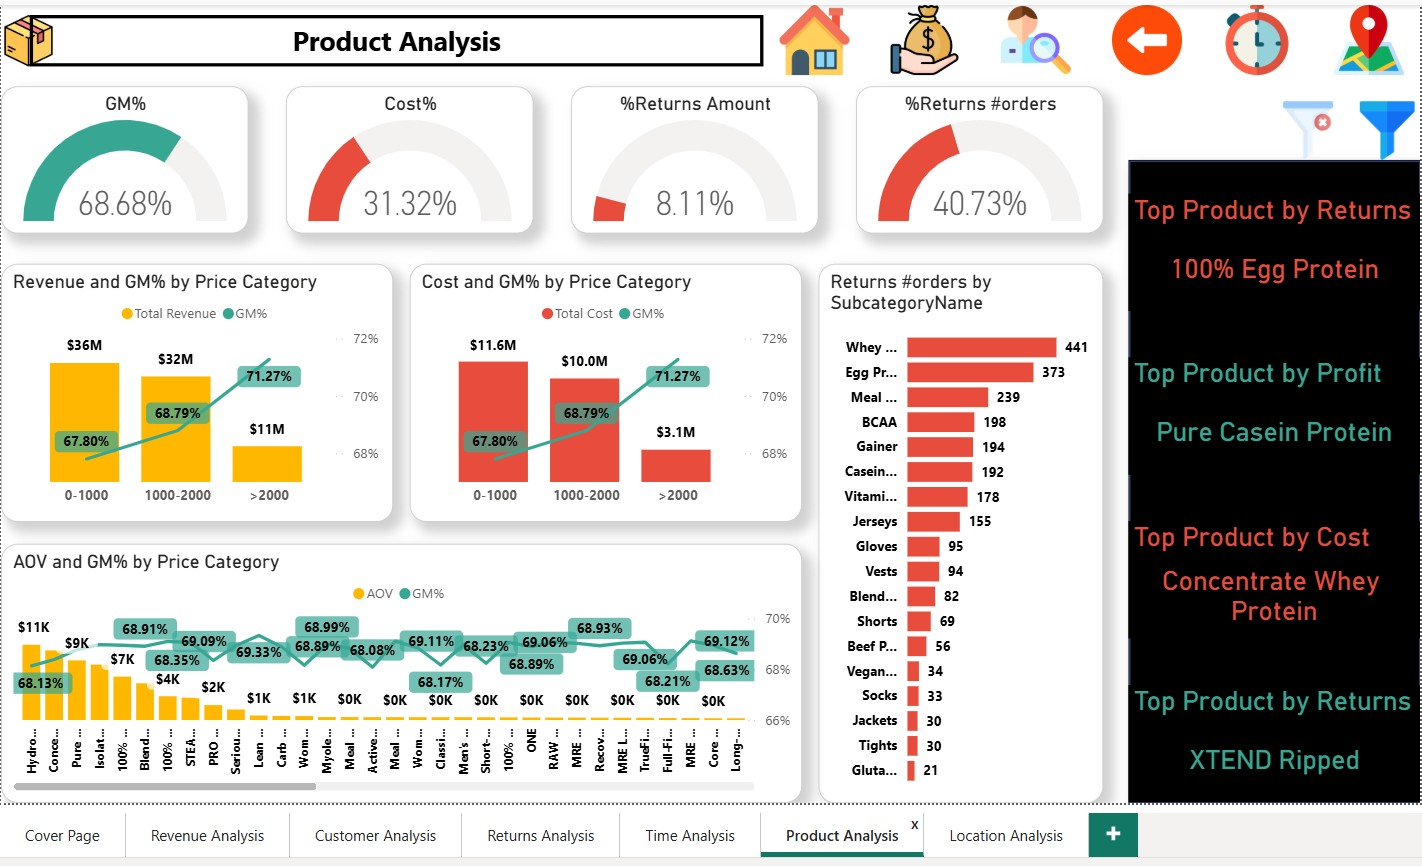

The dashboard page shown, as its layout file describes it:
{"tool":"powerbi","page":{"name":"Product Analysis","canvas":[1280,720],"ordinal":5},"visuals":[{"type":"gauge","fields":{"Y":["Calculations.GM%"]},"box":[0,73.3,223.2,133],"z":0},{"type":"gauge","fields":{"Y":["Calculations.Cost%"]},"box":[257,73.3,223.2,133],"z":1000},{"type":"gauge","fields":{"Y":["Retuens Measures.%Returns #orders"]},"box":[770.9,73.3,223.2,133],"z":2000},{"type":"gauge","fields":{"Y":["Retuens Measures.%Returns Amount"]},"box":[514,73.3,223.2,133],"z":3000},{"type":"lineStackedColumnComboChart","title":"Revenue and GM% by Price Category","fields":{"Y":["Calculations.Total Revenue"],"Category":["SalesDetails.Price Category"],"Y2":["Calculations.GM%"]},"box":[0,233.7,353.5,232.6],"z":4000},{"type":"lineStackedColumnComboChart","title":"Cost and GM% by Price Category","fields":{"Y":["Calculations.Total Cost"],"Category":["SalesDetails.Price Category"],"Y2":["Calculations.GM%"]},"box":[368.6,233.7,353.5,232.6],"z":5000},{"type":"clusteredBarChart","fields":{"Category":["Product.SubcategoryName"],"Y":["Retuens Measures.Returns #orders"]},"box":[737.2,233.7,257,486],"z":6000},{"type":"lineStackedColumnComboChart","title":"AOV and GM% by Price Category","fields":{"Y":["Calculations.AOV"],"Category":["Product.ProductName"],"Y2":["Calculations.GM%"]},"box":[0,486,722.1,233.7],"z":7000},{"type":"shape","box":[1016.2,139.4,264.1,580.8],"z":8000},{"type":"image","title":"Filter","box":[1219.2,86.8,61.1,52.6],"z":9000},{"type":"image","title":"Clear All","box":[1148.2,86.8,59.9,52.6],"z":10000},{"type":"image","box":[687,0,92,63],"z":11000},{"type":"image","box":[787,0,92,63],"z":12000},{"type":"image","box":[887,0,92,63],"z":13000},{"type":"image","box":[1087,0,92,63],"z":14000},{"type":"image","box":[1187.4,0,92.9,63.6],"z":15000},{"type":"image","box":[987,0,92,63],"z":16000},{"type":"card","title":"Top Product by Returns","fields":{"Values":["Min(Product.ProductName)"]},"box":[1016.5,170.3,263.5,105.8],"z":21000},{"type":"card","title":"Top Product by Profit","fields":{"Values":["Min(Product.ProductName)"]},"box":[1016.8,318.1,263.5,105.7],"z":22000},{"type":"card","title":"Top Product by Cost","fields":{"Values":["Min(Product.ProductName)"]},"box":[1016.8,465.7,263.5,105.7],"z":23000},{"type":"card","title":"Top Product by Returns","fields":{"Values":["Min(Product.ProductName)"]},"box":[1016.8,613.4,263.5,105.7],"z":24000},{"type":"image","box":[0,8.6,50.1,46.5],"z":25000},{"type":"actionButton","box":[25.7,8.6,661.6,46.5],"z":26000}]}

Visuals, with their boxes on the page's 1280x720 design canvas (x1, y1, x2, y2). These are canvas units, not pixel positions in the 1422x866 screenshot, which may show the page scaled, cropped or inside an application window:
gauge - Calculations.GM%: [x1=0, y1=73, x2=223, y2=206]
gauge - Calculations.Cost%: [x1=257, y1=73, x2=480, y2=206]
gauge - Retuens Measures.%Returns #orders: [x1=771, y1=73, x2=994, y2=206]
gauge - Retuens Measures.%Returns Amount: [x1=514, y1=73, x2=737, y2=206]
"Revenue and GM% by Price Category" lineStackedColumnComboChart: [x1=0, y1=234, x2=354, y2=466]
"Cost and GM% by Price Category" lineStackedColumnComboChart: [x1=369, y1=234, x2=722, y2=466]
clusteredBarChart - Product.SubcategoryName x Retuens Measures.Returns #orders: [x1=737, y1=234, x2=994, y2=720]
"AOV and GM% by Price Category" lineStackedColumnComboChart: [x1=0, y1=486, x2=722, y2=720]
shape: [x1=1016, y1=139, x2=1280, y2=720]
"Filter" image: [x1=1219, y1=87, x2=1280, y2=139]
"Clear All" image: [x1=1148, y1=87, x2=1208, y2=139]
image: [x1=687, y1=0, x2=779, y2=63]
image: [x1=787, y1=0, x2=879, y2=63]
image: [x1=887, y1=0, x2=979, y2=63]
image: [x1=1087, y1=0, x2=1179, y2=63]
image: [x1=1187, y1=0, x2=1280, y2=64]
image: [x1=987, y1=0, x2=1079, y2=63]
"Top Product by Returns" card: [x1=1016, y1=170, x2=1280, y2=276]
"Top Product by Profit" card: [x1=1017, y1=318, x2=1280, y2=424]
"Top Product by Cost" card: [x1=1017, y1=466, x2=1280, y2=571]
"Top Product by Returns" card: [x1=1017, y1=613, x2=1280, y2=719]
image: [x1=0, y1=9, x2=50, y2=55]
actionButton: [x1=26, y1=9, x2=687, y2=55]
